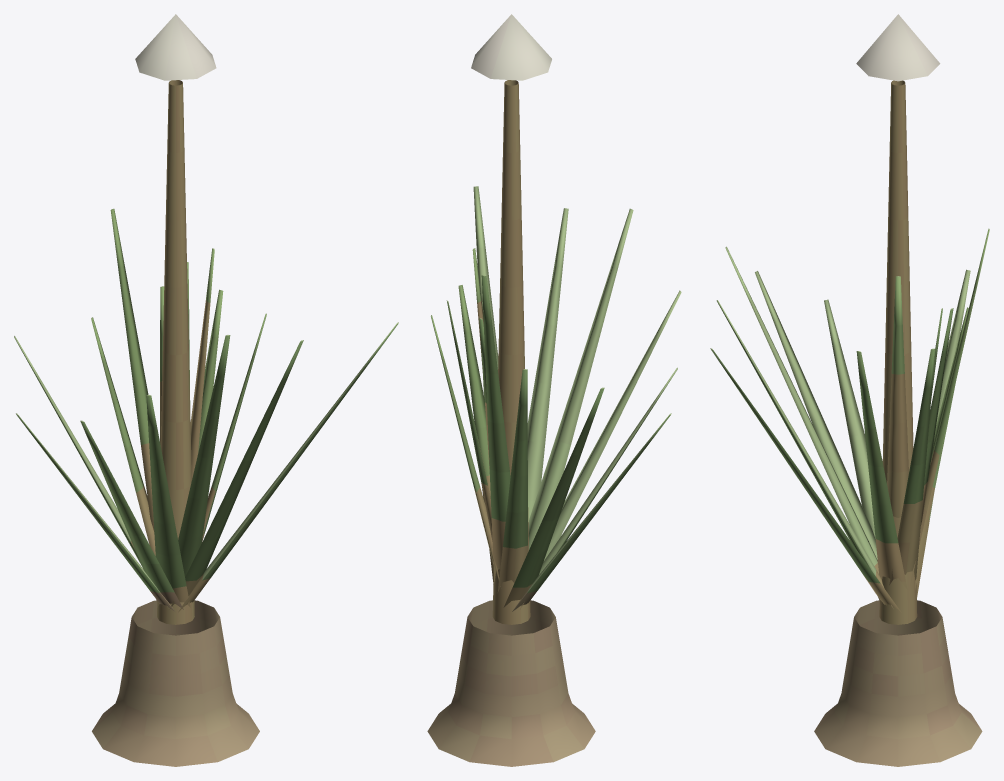
Rendered from Desert_Yucca.glb.
3 views of the same model, side by side, from view 1: azimuth 30°, elevation 25°; view 2: azimuth 150°, elevation 25°; view 3: azimuth 270°, elevation 25° (orthographic).
Parts seen in each view (by area): view 1: DesertYucca; view 2: DesertYucca; view 3: DesertYucca.
Part boxes in pixels (x1=…): DesertYucca: x1=14, y1=14, x2=398, y2=766; DesertYucca: x1=427, y1=14, x2=681, y2=766; DesertYucca: x1=710, y1=14, x2=989, y2=766.
Size of the model in its own units: 0.7956 by 1.88 by 0.6644.
